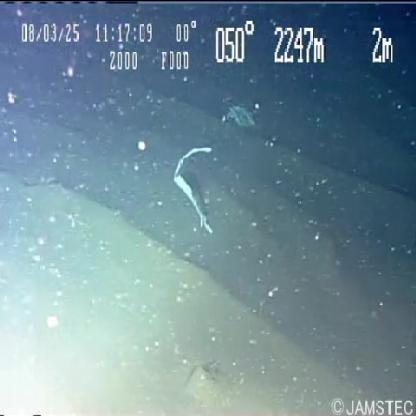Rác: (172, 146, 214, 235)
